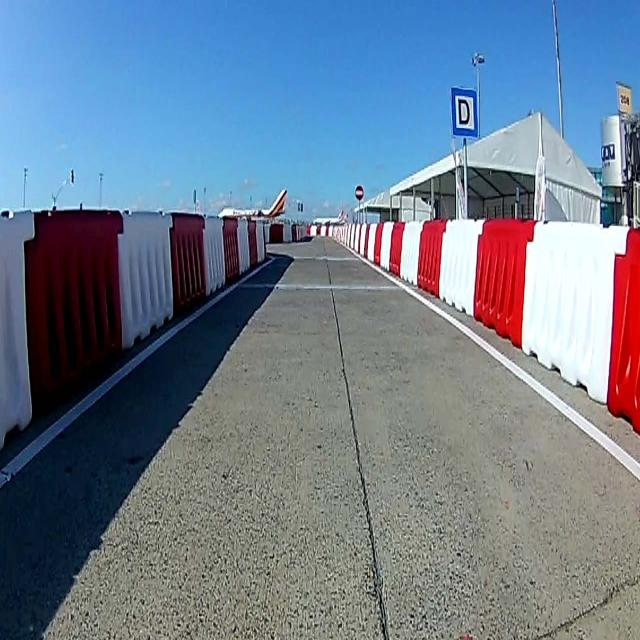durak: (451, 90, 479, 137)
girisyok: (355, 186, 365, 202)
